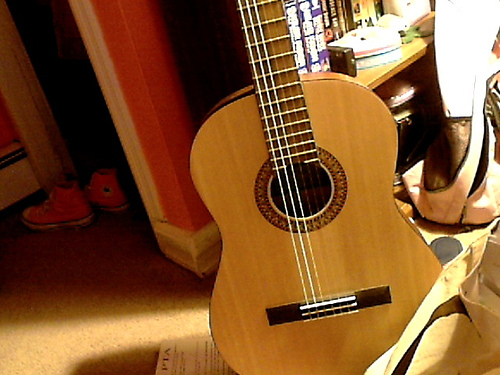guitar: (187, 1, 446, 375)
